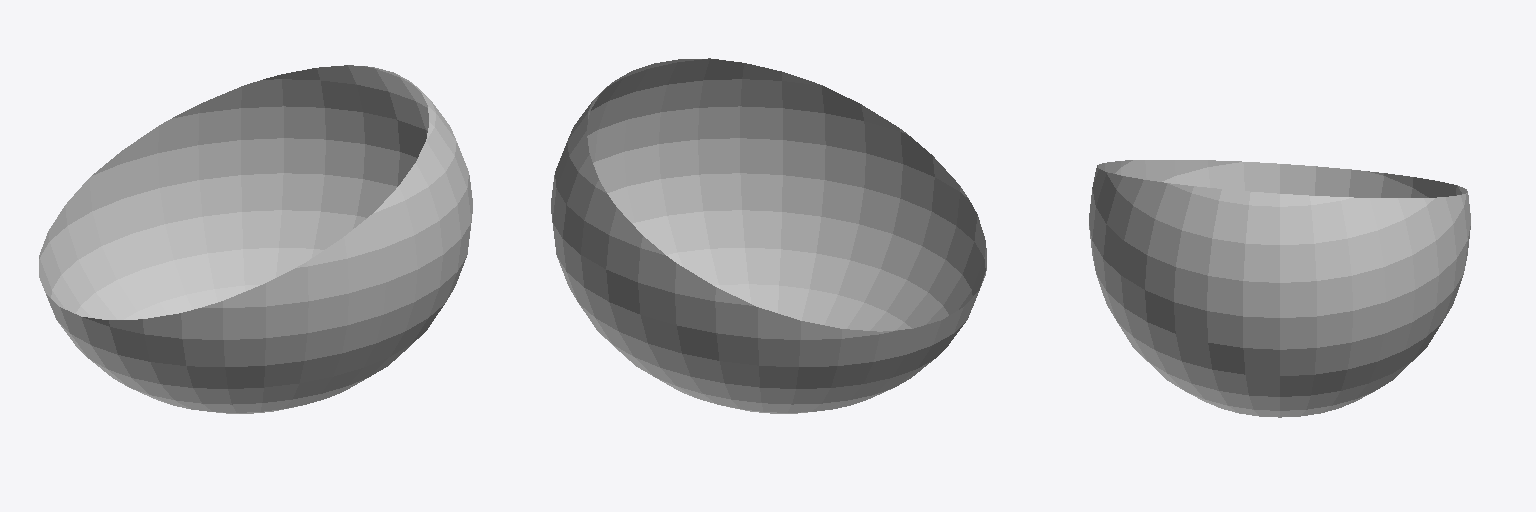
Rendered from cutted_sphere.obj.
3 renders of one model, left to right at view 1: azimuth 30°, elevation 25°; view 2: azimuth 150°, elevation 25°; view 3: azimuth 270°, elevation 25°, orthographic.
Parts seen in each view (by area): view 1: Sphere; view 2: Sphere; view 3: Sphere.
Boxes of the visible parts, box(x1,y1,x2,y2) form: Sphere: box(39, 65, 472, 413); Sphere: box(551, 58, 986, 413); Sphere: box(1089, 160, 1470, 417).
Size of the model in its own units: 4.05 by 2.72 by 3.43.